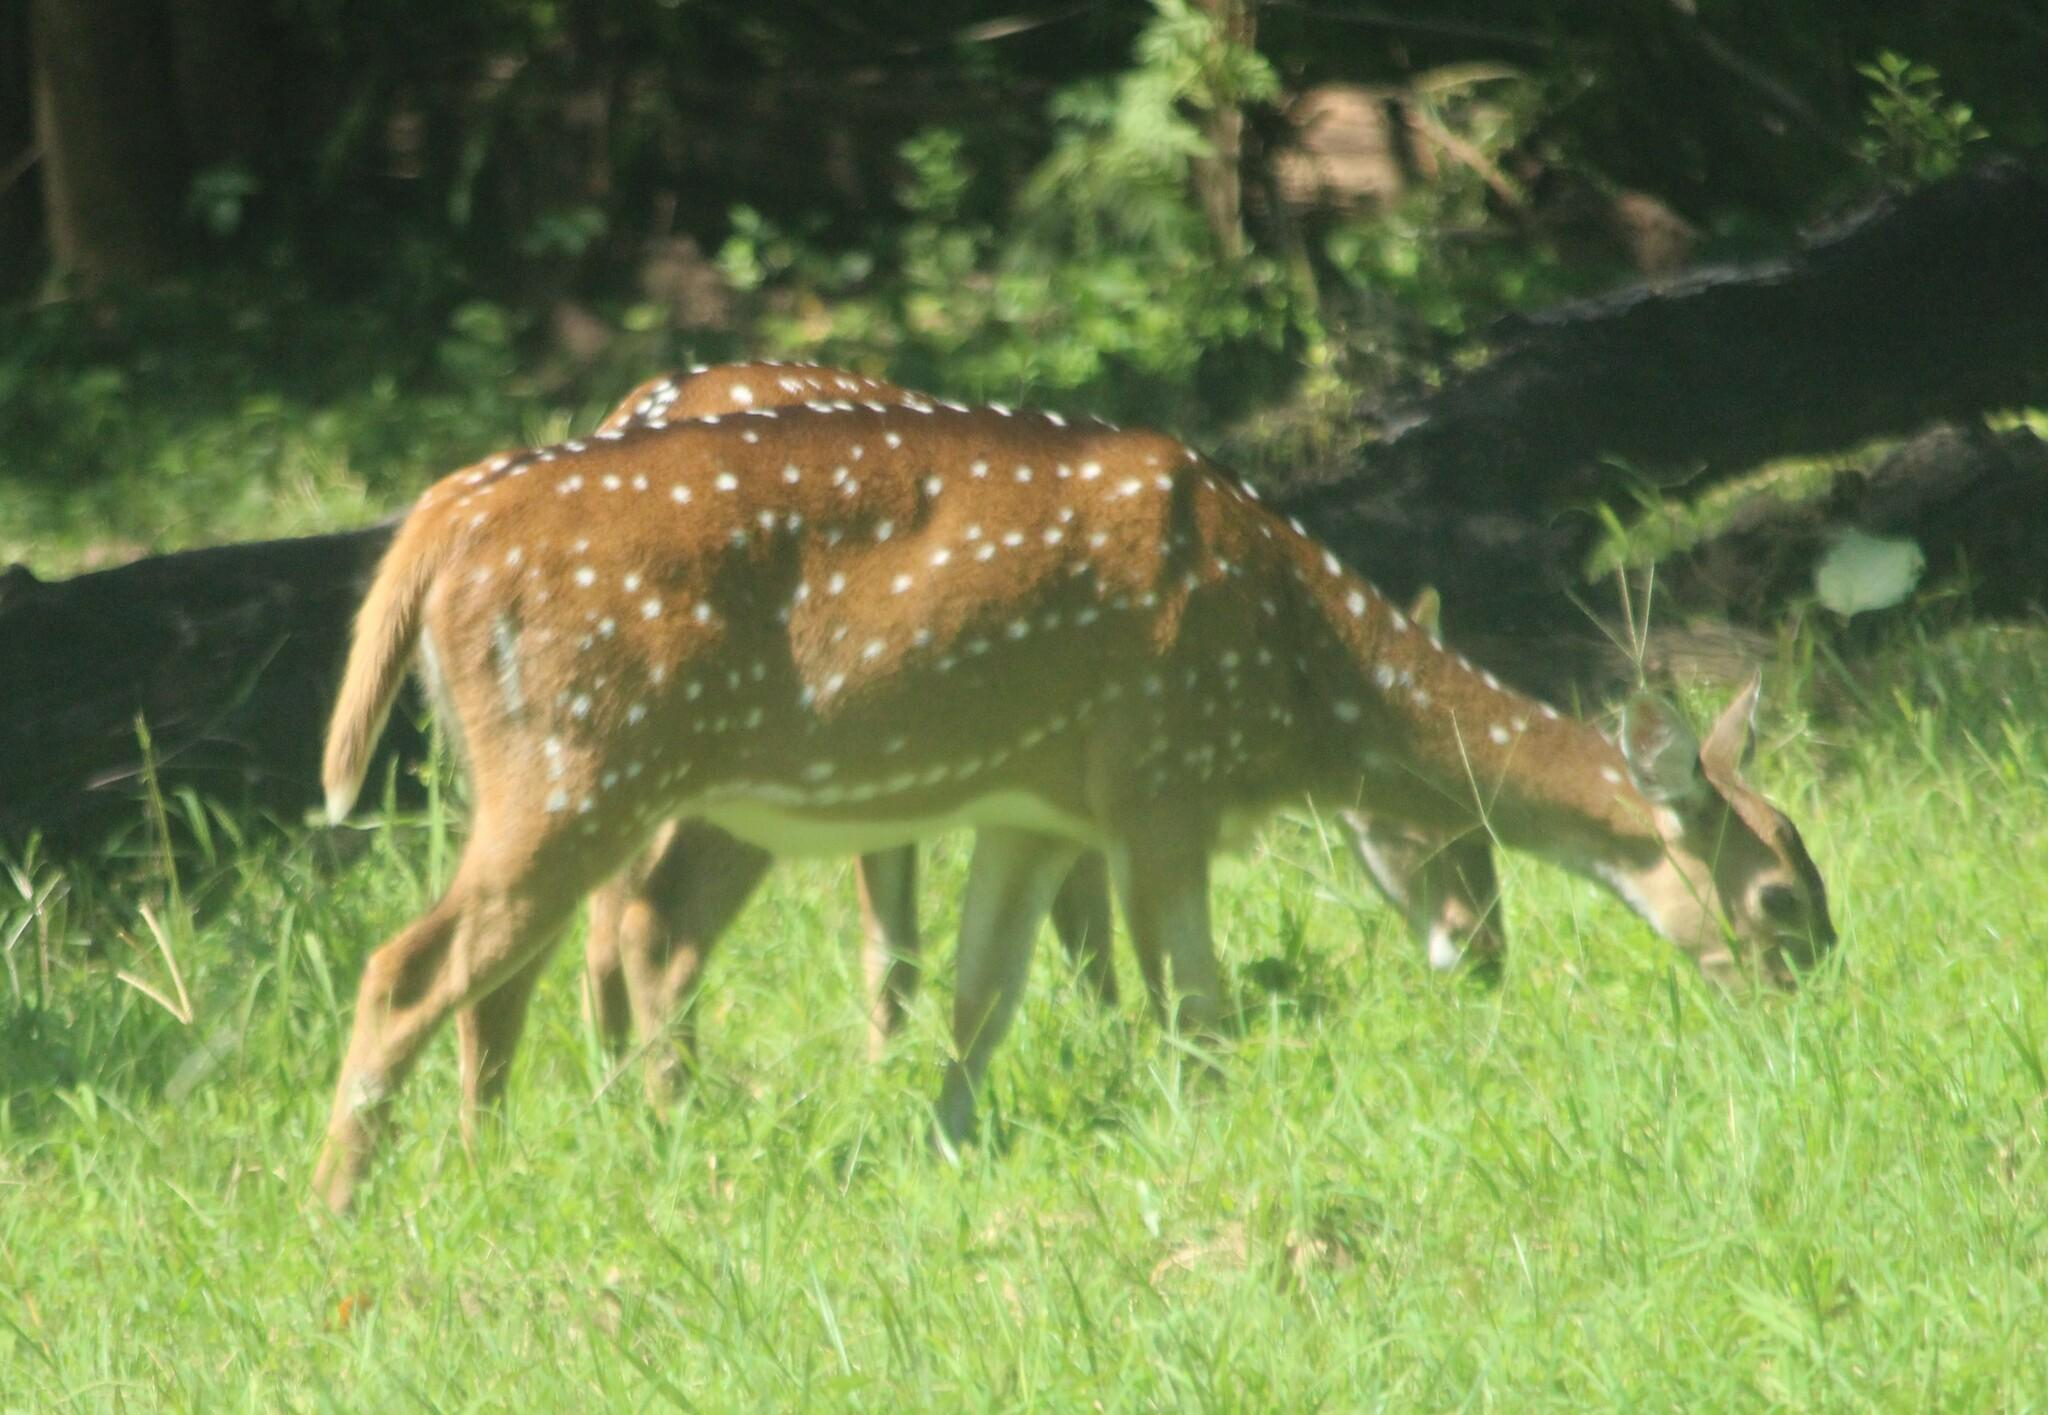Deer: (321, 403, 1833, 1192)
